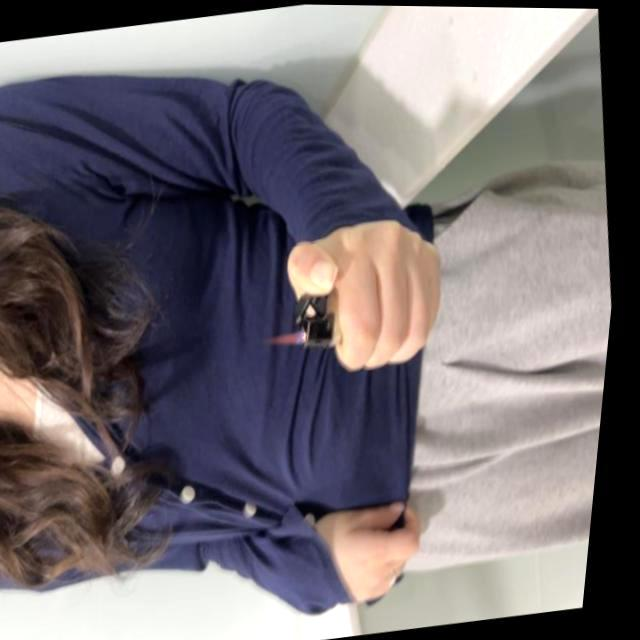fire: (270, 326, 314, 346)
